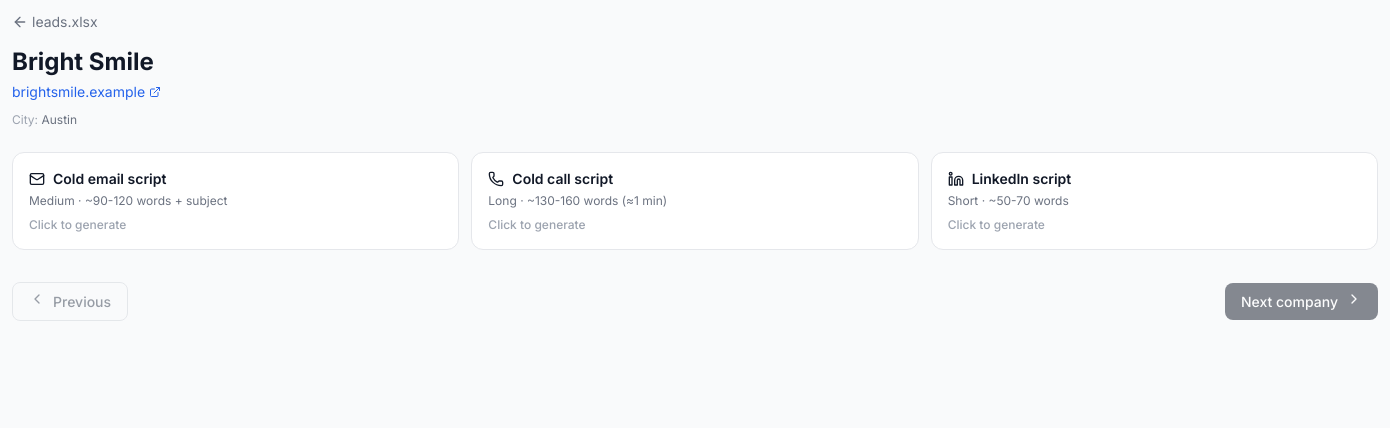
Scenario: C — CompanyScripts › shows the error when generation fails
Step 1. Click the button with test id "generate-linkedin" → (1021, 179), box [931,152,1378,250]
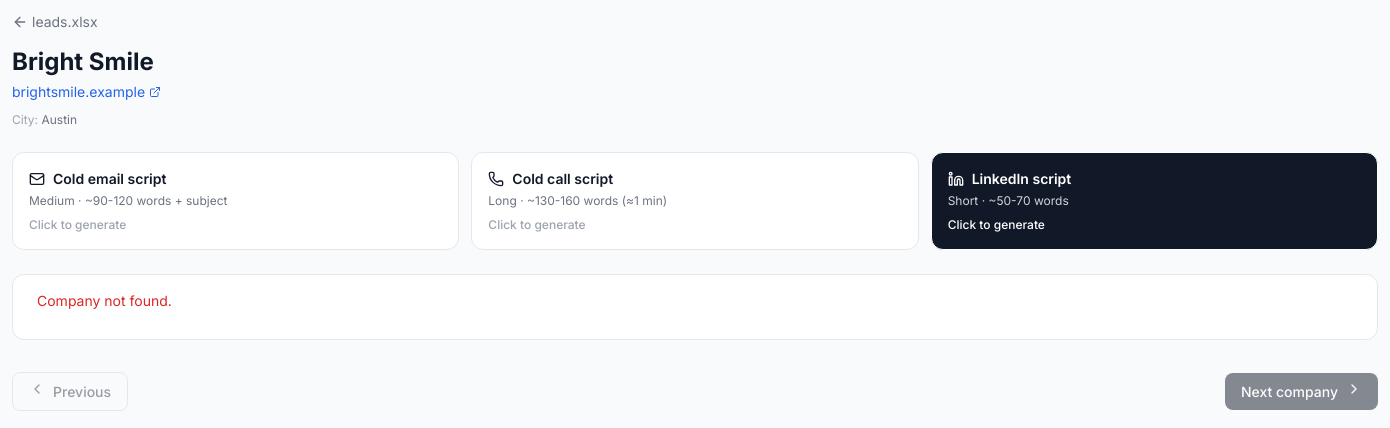
Expected: the text "Company not found." is shown, [37,292,172,309]
